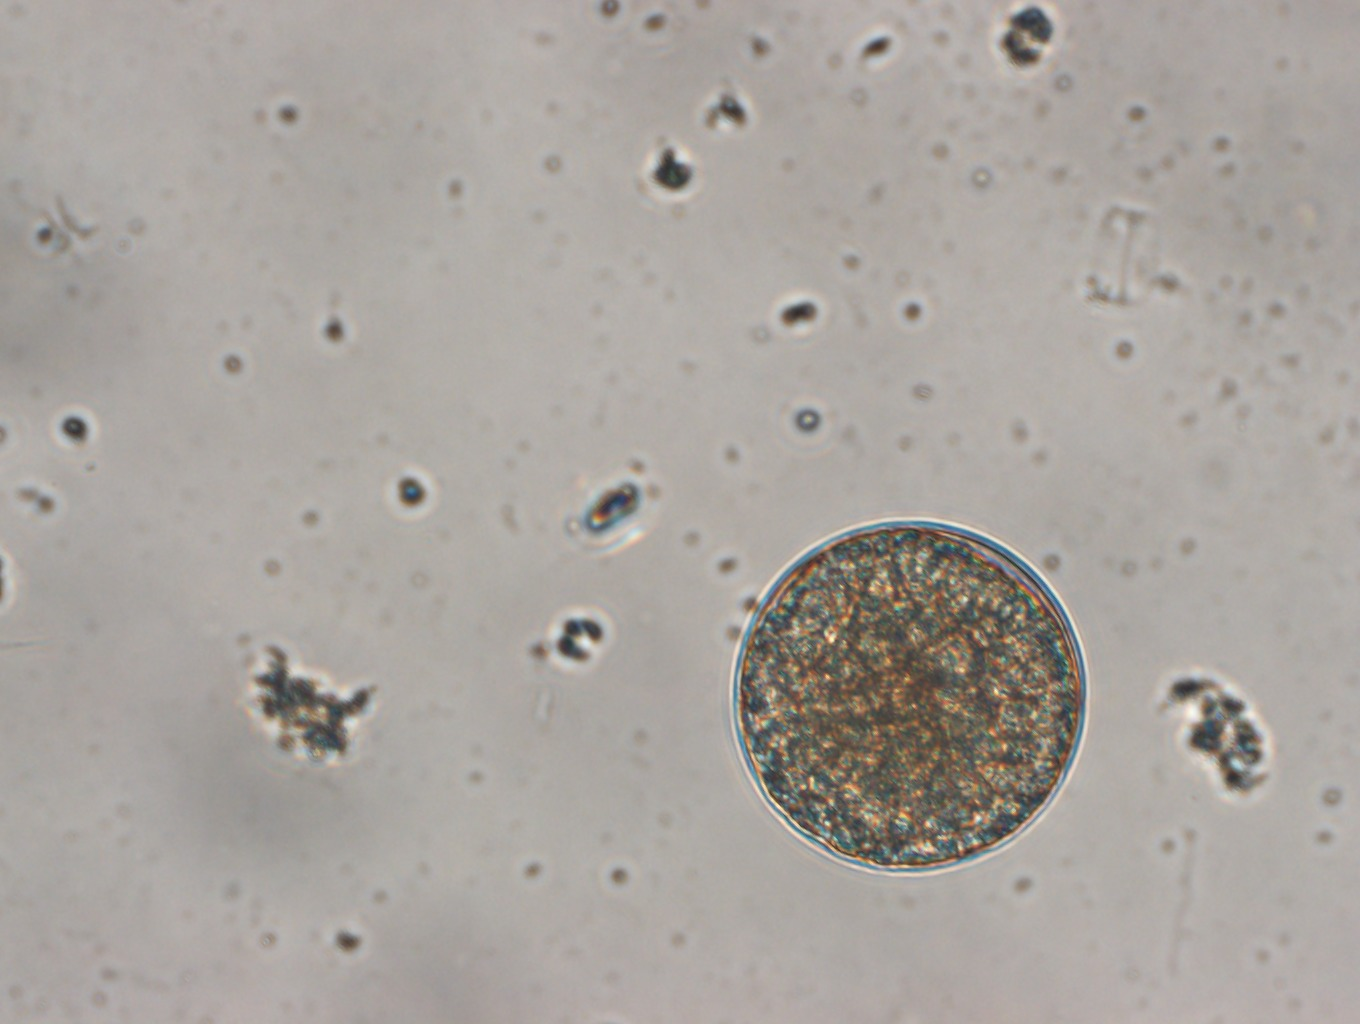coscinodiscus: (725, 518, 1092, 879)
